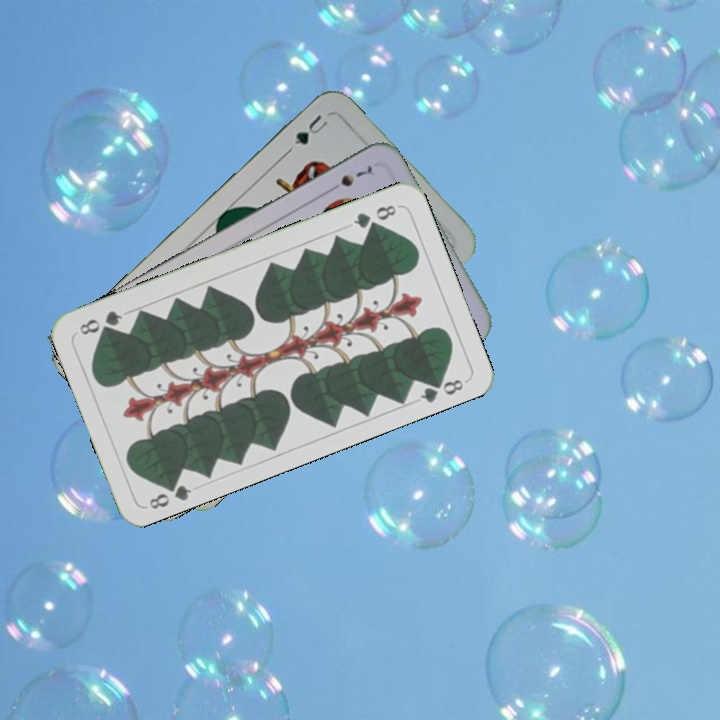G8: (145, 475, 195, 512), (349, 200, 402, 231)
GU: (290, 110, 331, 148)
S7: (323, 161, 375, 195)
